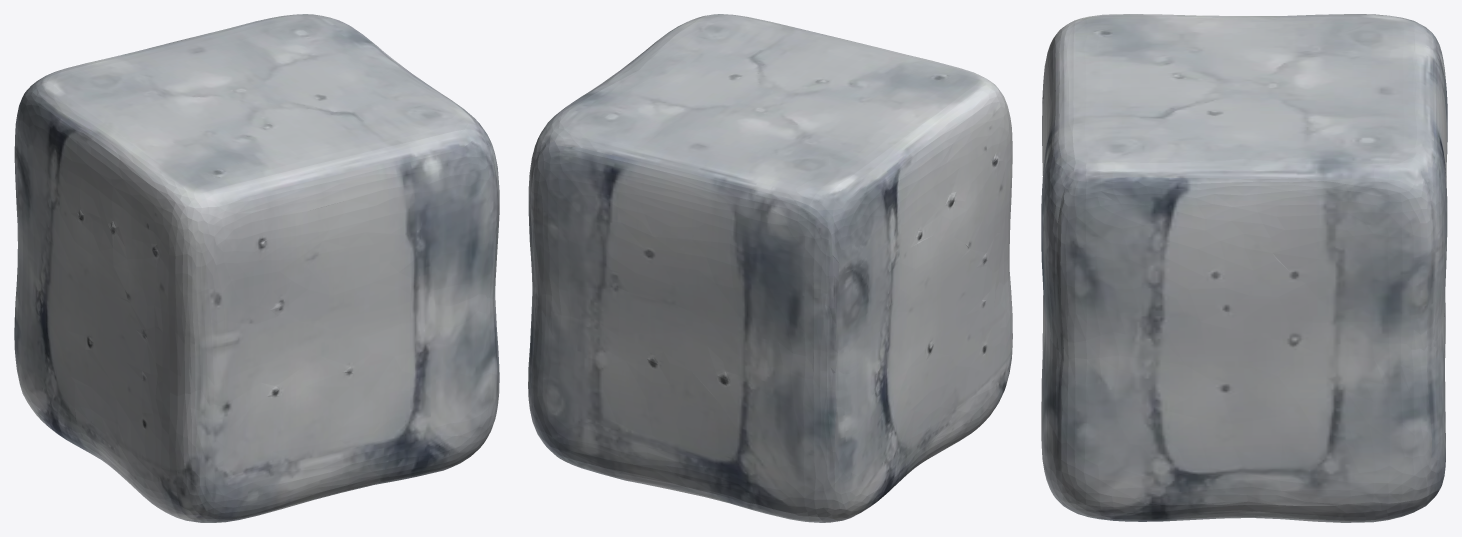
File: ice.glb
3 views of the same model, side by side, from view 1: azimuth 30°, elevation 25°; view 2: azimuth 150°, elevation 25°; view 3: azimuth 270°, elevation 25° (orthographic). The views are drawn at different scales.
Parts seen in each view (by area): view 1: geometry_0; view 2: geometry_0; view 3: geometry_0.
Part boxes in pixels (box(x1,y1,x2,y2)): geometry_0: box(14, 14, 499, 522); geometry_0: box(528, 14, 1012, 522); geometry_0: box(1041, 14, 1447, 522).
Bounding box in the file's own units: 0.4898 × 0.4868 × 0.4877.
1 material, 1 textured.
